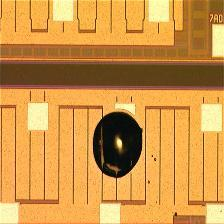PARTICLE: (90, 109, 147, 183)
